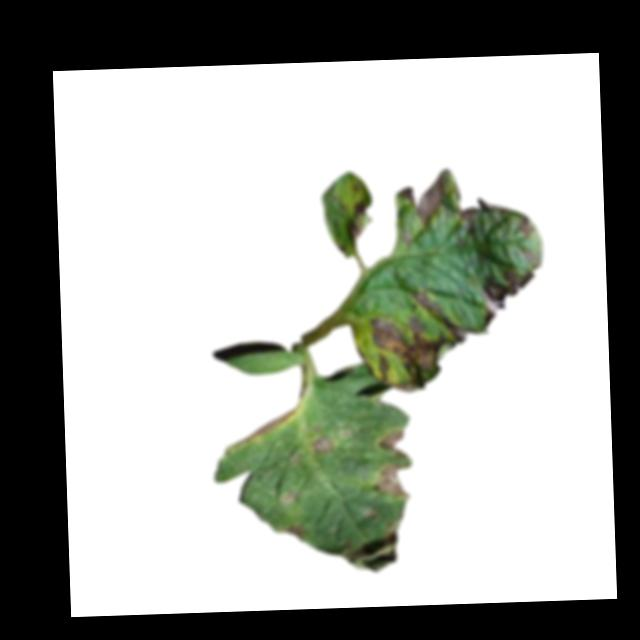Early_blight: (365, 290, 482, 394), (481, 265, 537, 320), (394, 172, 445, 229), (345, 533, 399, 574), (241, 408, 297, 445), (456, 196, 507, 225), (375, 462, 408, 502), (345, 201, 367, 243), (380, 429, 407, 460), (515, 216, 535, 241), (280, 523, 304, 543), (312, 434, 331, 455)
